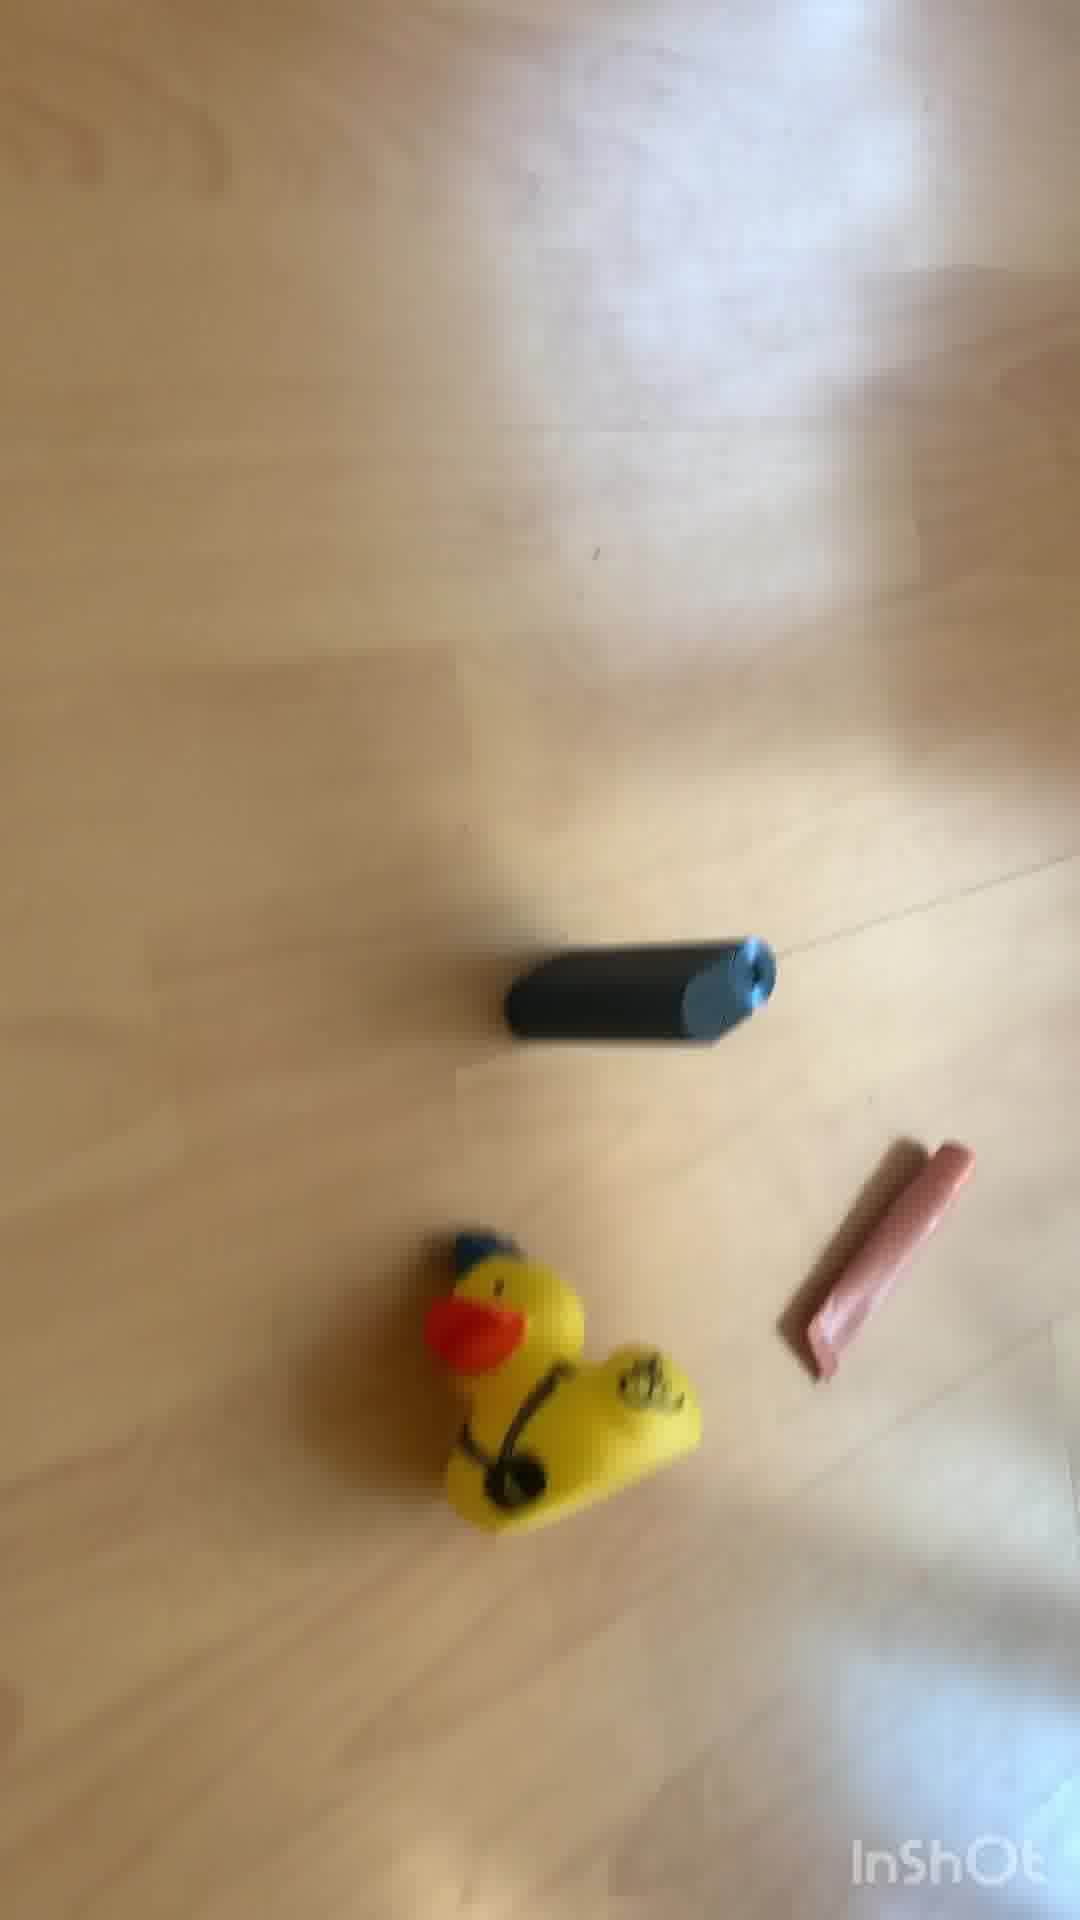duck: (418, 1221, 723, 1542)
glo: (500, 926, 790, 1059)
lip balm: (798, 1113, 992, 1390)
